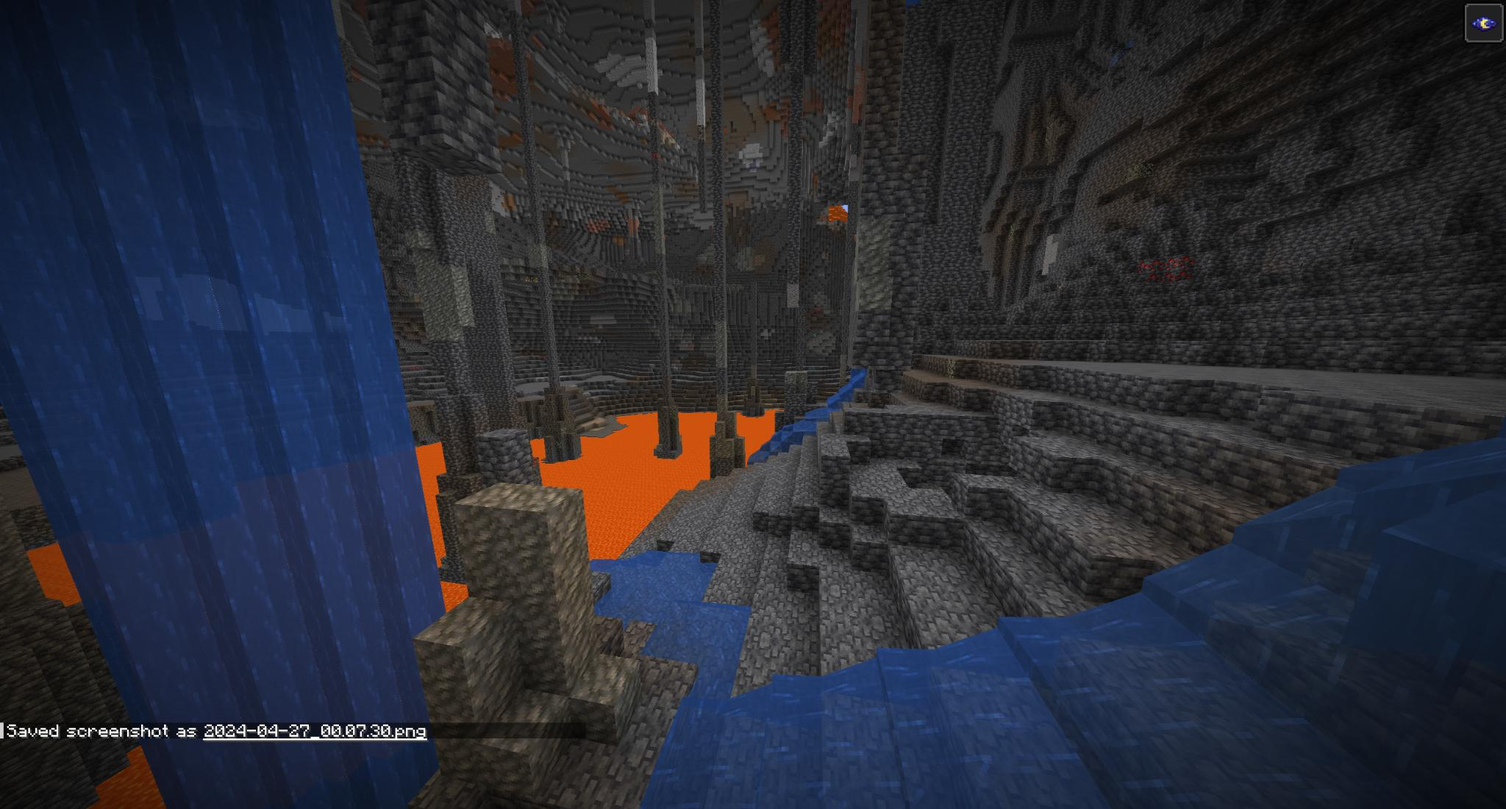redstone ore: (1137, 252, 1196, 288)
